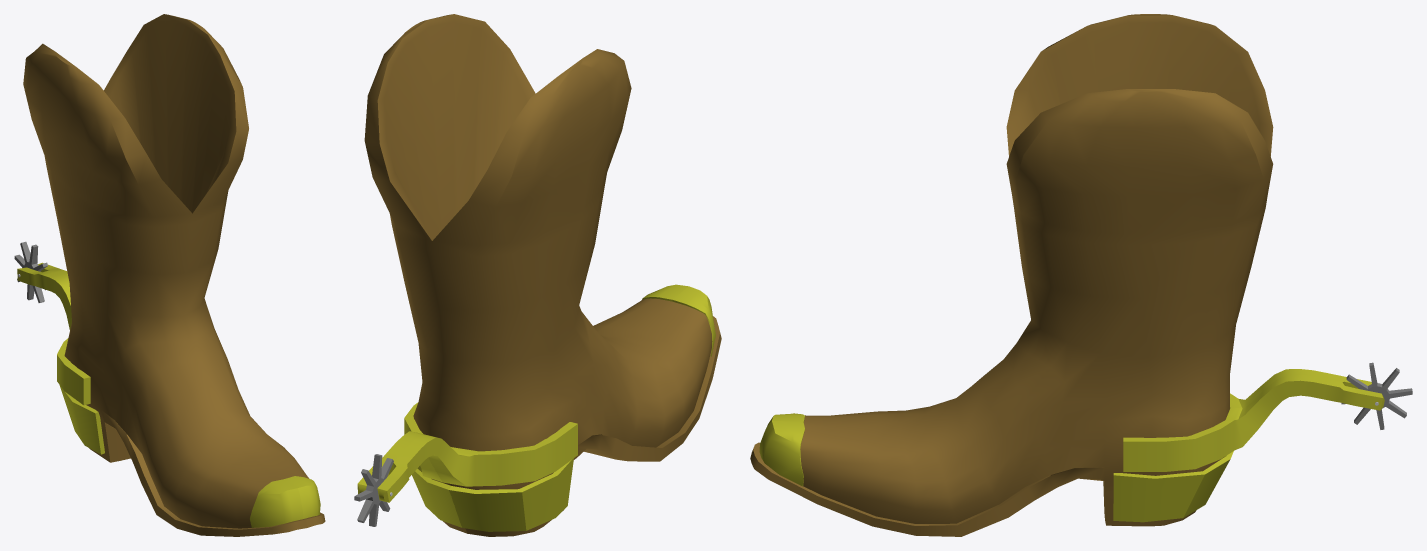
File: boot.obj
3 views of the same model, side by side, from view 1: azimuth 30°, elevation 25°; view 2: azimuth 150°, elevation 25°; view 3: azimuth 270°, elevation 25° (orthographic). The views are drawn at different scales.
Parts seen in each view (by area): view 1: Cylinder.001, Cube, Cube.001, Cylinder.002; view 2: Cylinder.001, Cube, Cube.001, Cylinder.002; view 3: Cylinder.001, Cube, Cube.001, Cylinder.002.
Part boxes in pixels (x1,y1,x2,y2): Cylinder.001: (23, 14, 325, 536); Cube: (17, 262, 90, 405); Cube.001: (59, 385, 104, 454); Cylinder.002: (14, 241, 47, 302); Cylinder.001: (364, 14, 721, 536); Cube: (357, 402, 577, 502); Cube.001: (412, 458, 573, 531); Cylinder.002: (354, 454, 393, 526); Cylinder.001: (750, 14, 1273, 536); Cube: (1123, 369, 1384, 471); Cube.001: (1113, 451, 1233, 522); Cylinder.002: (1341, 362, 1412, 429).
Size of the model in its own units: 1.7 by 4.17 by 5.52.
Materials: 2 (1 with a texture image).
